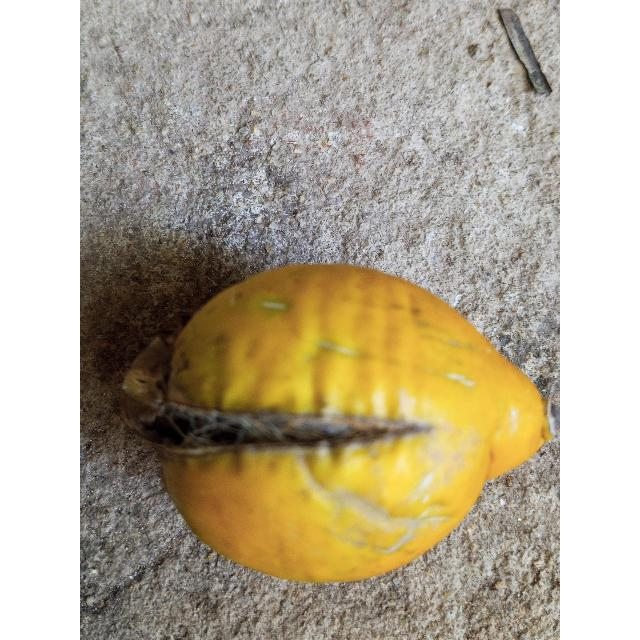damaged: (150, 263, 553, 586)
